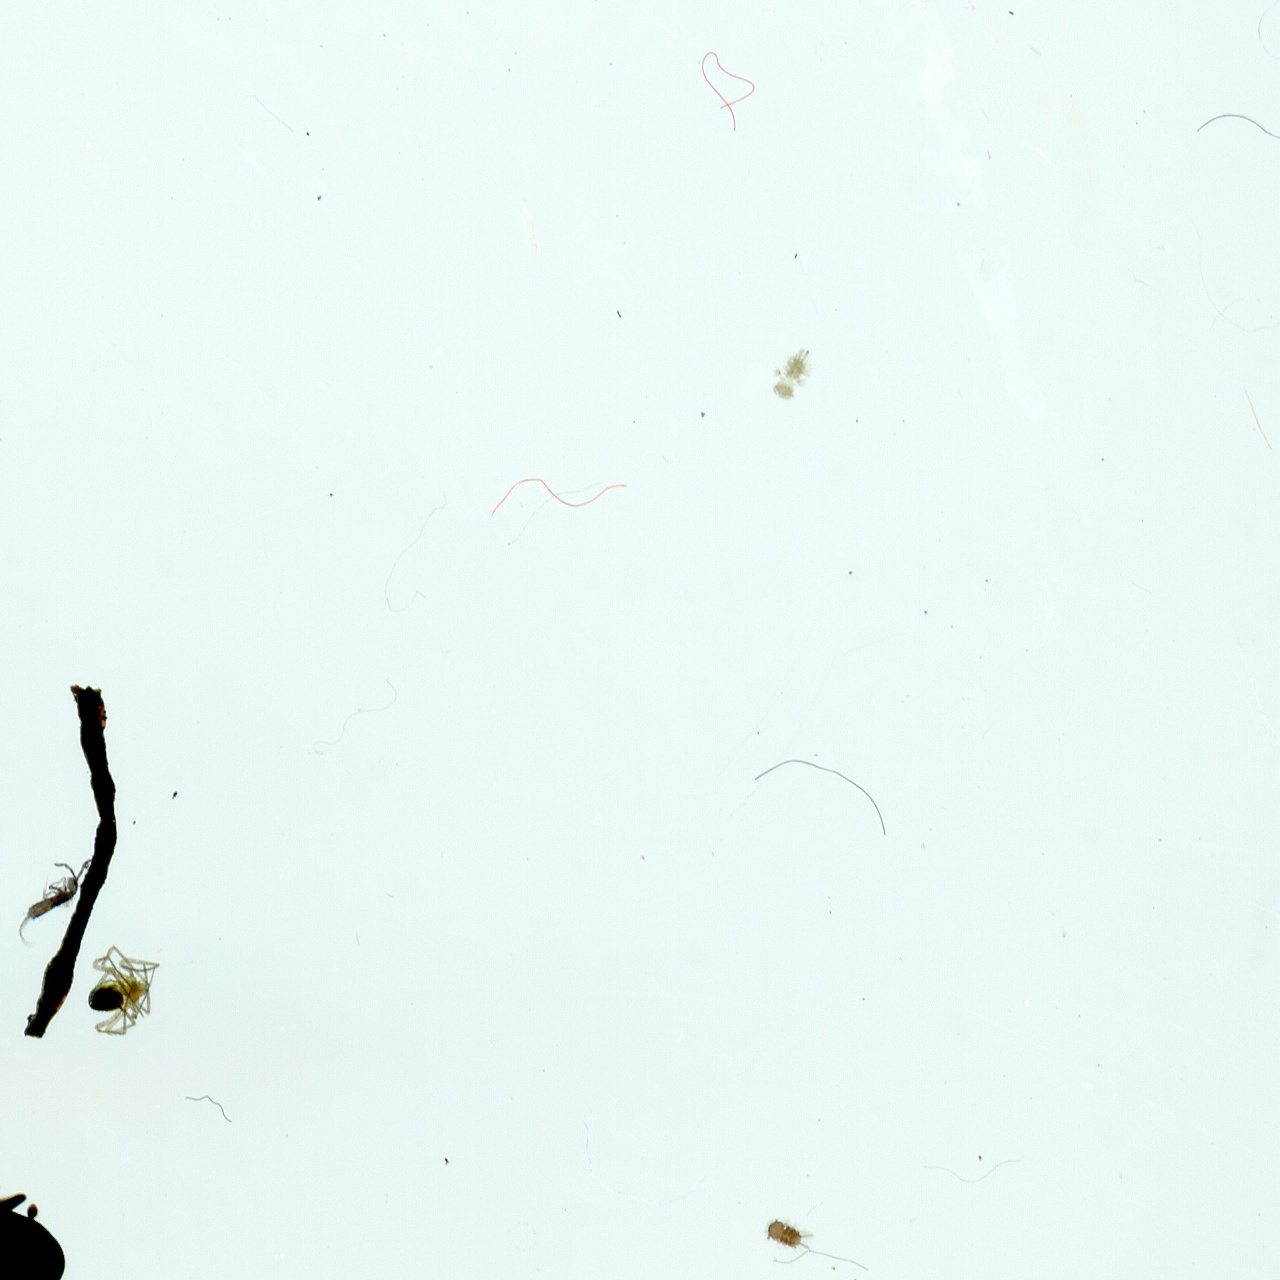arthropod: (0, 1123, 66, 1280), (16, 856, 93, 946), (86, 945, 159, 1034), (767, 340, 816, 397), (761, 1213, 815, 1250)
